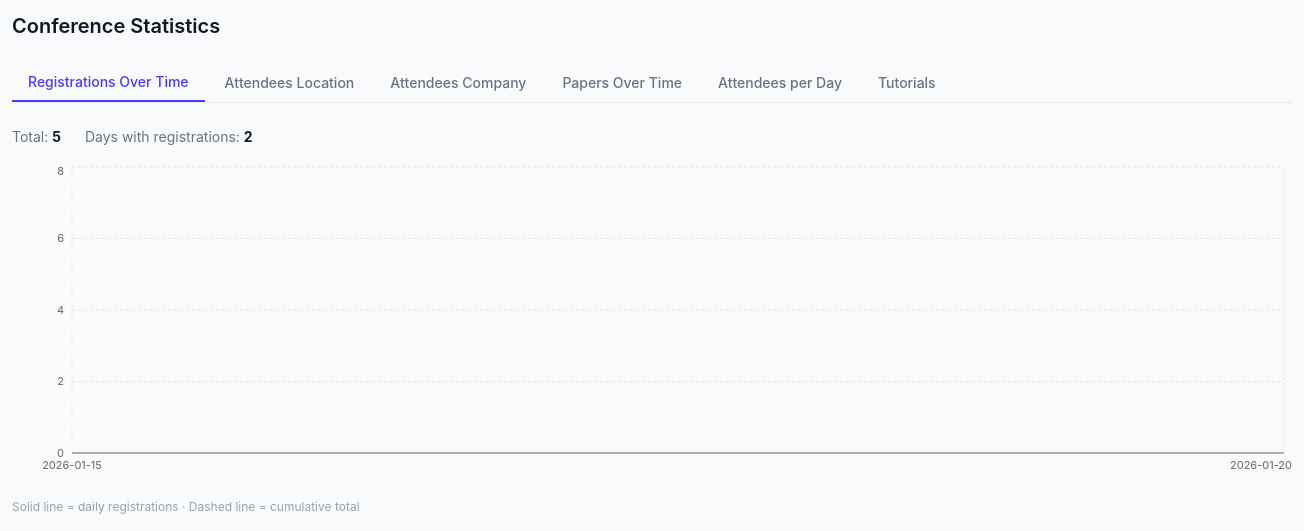
Test: ConferenceStatisticsTab › shows not-applicable message when has_cfp=false
This screenshot has width=1304, height=531.
Click the button "Papers Over Time".
click(622, 83)  # box [546,64,698,102]
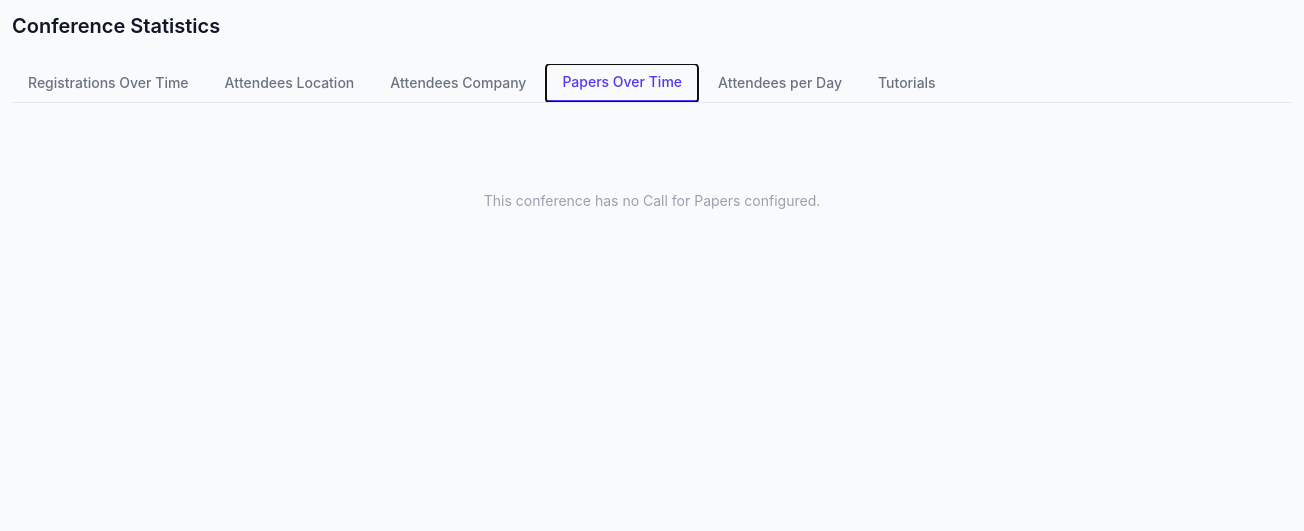
Check: the text "This conference has no Call for Papers configured." is shown, box [484,192,820,209]
